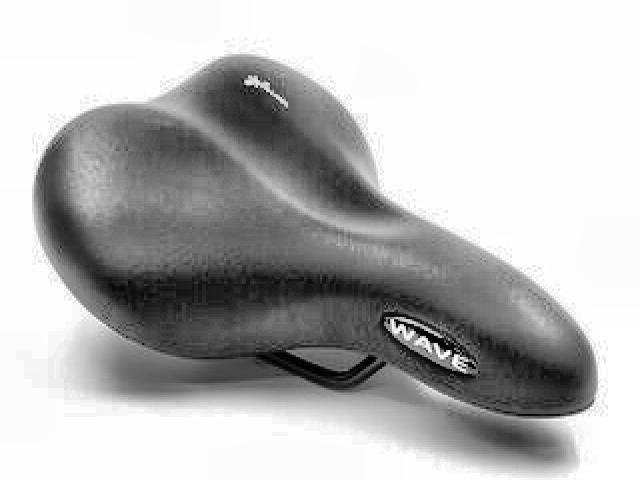saddle: (31, 51, 602, 424)
